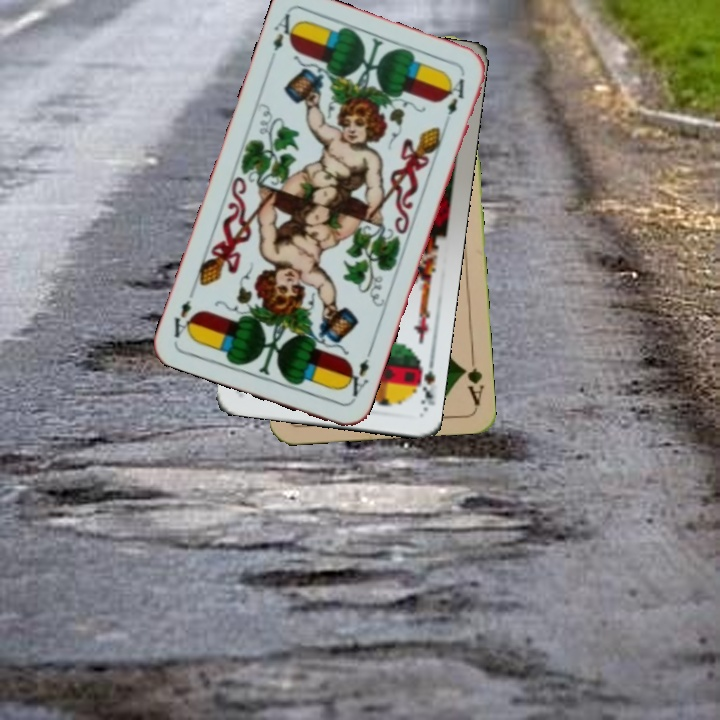EA: (340, 346, 374, 403), (268, 9, 300, 54)
GA: (458, 348, 486, 407)
SK: (409, 352, 438, 413)
